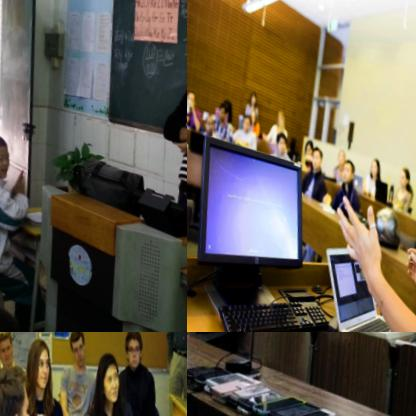head: (20, 338, 55, 397), (90, 350, 123, 403), (0, 363, 32, 416), (119, 332, 144, 369), (64, 332, 86, 364), (0, 332, 14, 367), (337, 159, 353, 188), (305, 146, 321, 174), (0, 131, 9, 178), (394, 168, 408, 192), (272, 131, 286, 154), (299, 138, 312, 161), (237, 117, 251, 138), (213, 100, 225, 123), (365, 157, 377, 179), (200, 112, 212, 133), (272, 108, 284, 127), (245, 90, 256, 108), (0, 332, 7, 360), (333, 147, 343, 164), (187, 91, 193, 111)
